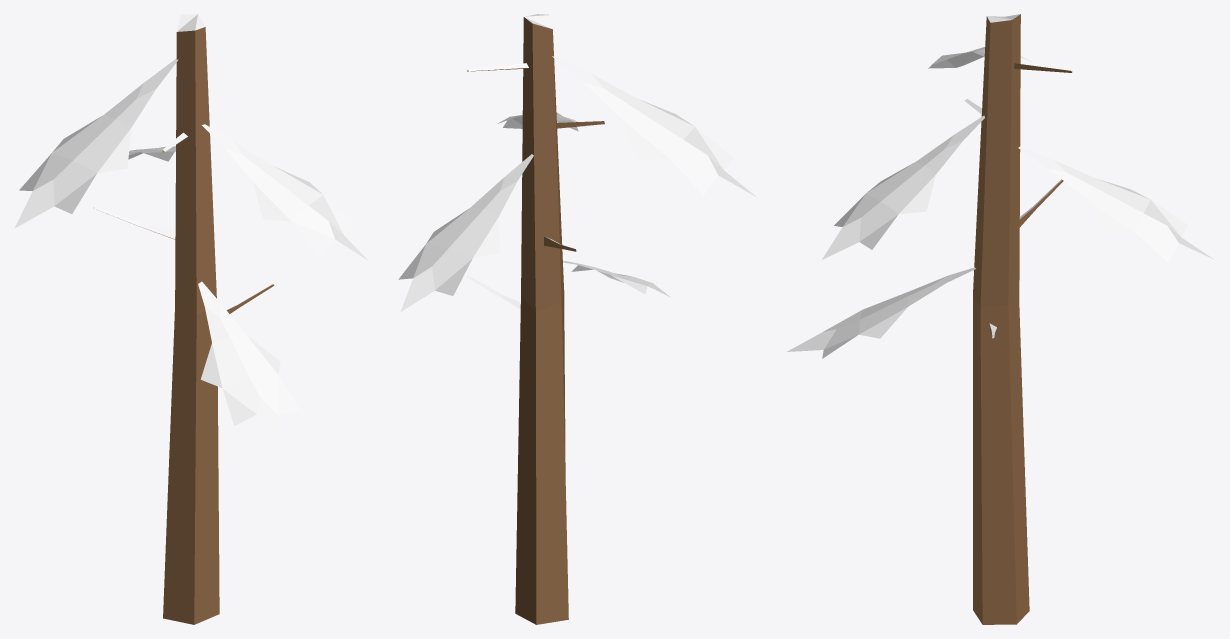
Rendered from Dead_Pine_Tree_crk_OneSided_l_Snow_01_LOD.fbx.
The picture shows the model from 3 angles, left to right: view 1: azimuth 30°, elevation 25°; view 2: azimuth 150°, elevation 25°; view 3: azimuth 270°, elevation 25°; orthographic projection.
Visible parts, largest first — view 1: Dead_Pine_Tree_crk_OneSided_l_Snow_01_LOD0; view 2: Dead_Pine_Tree_crk_OneSided_l_Snow_01_LOD0; view 3: Dead_Pine_Tree_crk_OneSided_l_Snow_01_LOD0.
Part boxes in pixels (x1,y1,x2,y2): Dead_Pine_Tree_crk_OneSided_l_Snow_01_LOD0: (15,14,368,624); Dead_Pine_Tree_crk_OneSided_l_Snow_01_LOD0: (398,14,756,624); Dead_Pine_Tree_crk_OneSided_l_Snow_01_LOD0: (787,14,1214,624).
Size of what is drawn, in the model's own units: 415 by 788 by 509.
